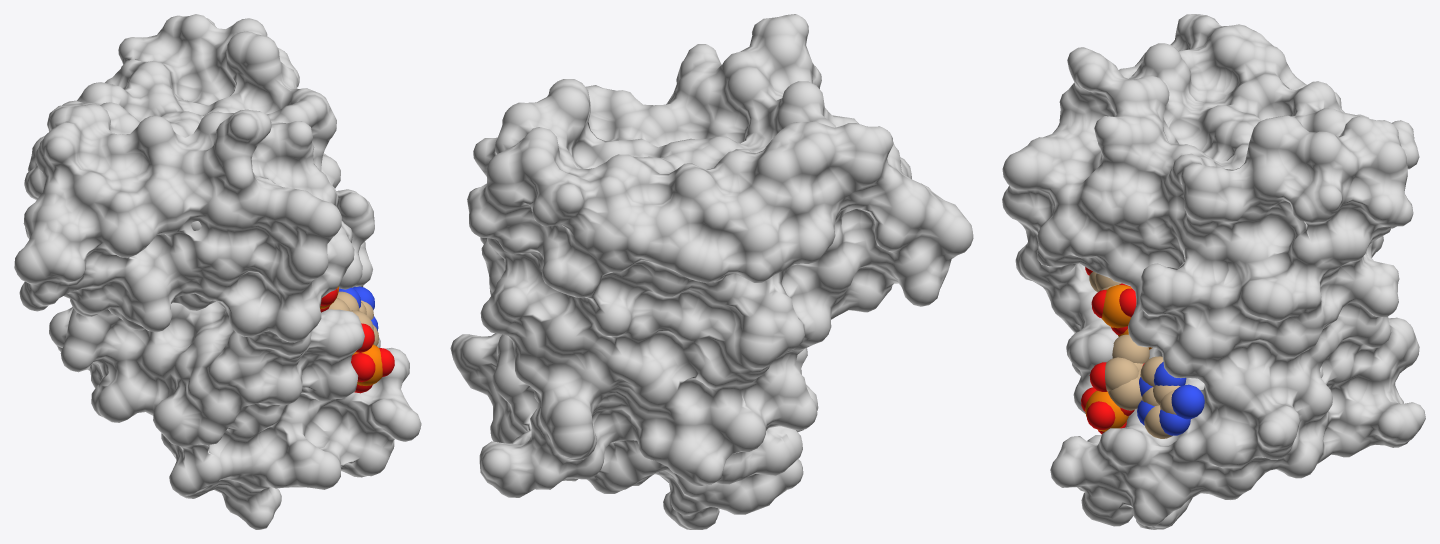
The model's file is NADPH + DHFR.dae.
3 views of the same model, side by side, from view 1: azimuth 30°, elevation 25°; view 2: azimuth 150°, elevation 25°; view 3: azimuth 270°, elevation 25° (orthographic). The views are drawn at different scales.
Visible parts, largest first — view 1: subnode_48, subnode_47; view 2: subnode_48; view 3: subnode_48, subnode_17, subnode_7, subnode_23, subnode_4, subnode_9, subnode_46, subnode_44, subnode_18, subnode_19.
Boxes of the visible parts, <box> form: subnode_48: <box>14,14,421,529</box>; subnode_47: <box>351,353,375,382</box>; subnode_48: <box>450,14,973,529</box>; subnode_48: <box>1002,14,1425,529</box>; subnode_17: <box>1171,384,1204,419</box>; subnode_7: <box>1105,357,1138,391</box>; subnode_23: <box>1102,285,1131,328</box>; subnode_4: <box>1112,334,1149,363</box>; subnode_9: <box>1108,377,1141,410</box>; subnode_46: <box>1086,401,1115,429</box>; subnode_44: <box>1085,390,1128,431</box>; subnode_18: <box>1159,409,1190,435</box>; subnode_19: <box>1144,405,1172,438</box>.
Size of the model in its own units: 44.62 by 47.14 by 39.74.
